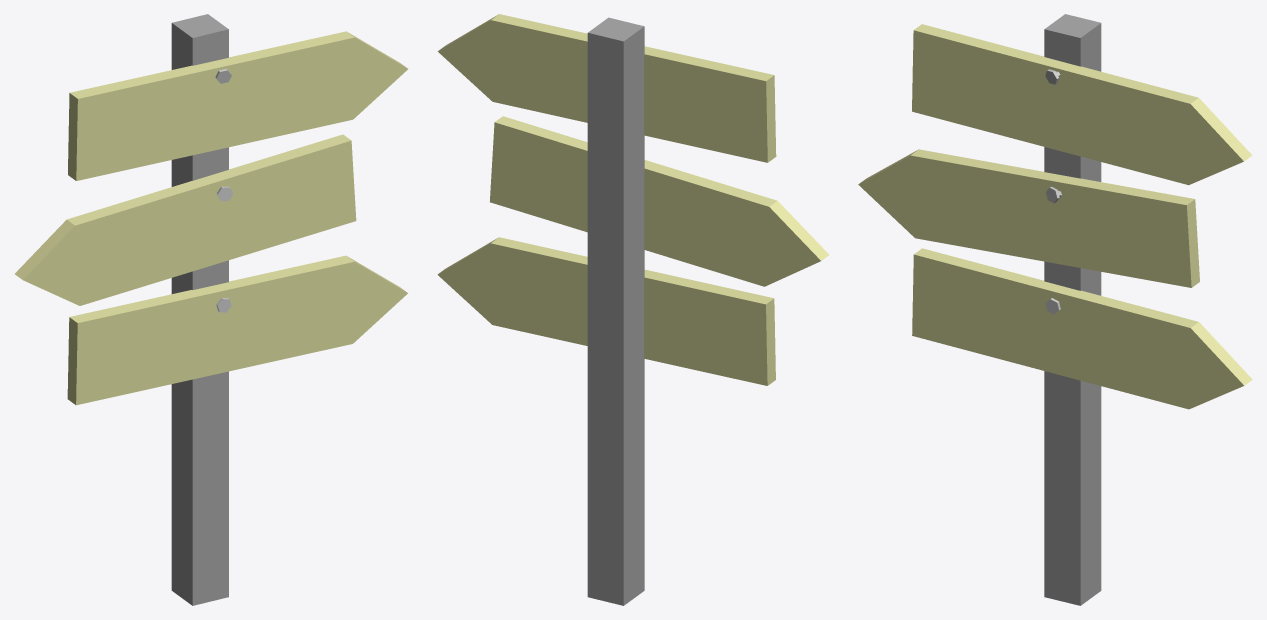
The model's file is direction_post.fbx.
3 renders of one model, left to right at view 1: azimuth 30°, elevation 25°; view 2: azimuth 150°, elevation 25°; view 3: azimuth 330°, elevation 25°, orthographic.
Visible parts, largest first — view 1: direction_sign_01; view 2: direction_sign_01; view 3: direction_sign_01.
Boxes of the visible parts, x1=… form: direction_sign_01: x1=15, y1=14, x2=407, y2=605; direction_sign_01: x1=437, y1=14, x2=829, y2=605; direction_sign_01: x1=858, y1=14, x2=1252, y2=605.
Bounding box in the file's own units: 213 × 300 × 33.24.
